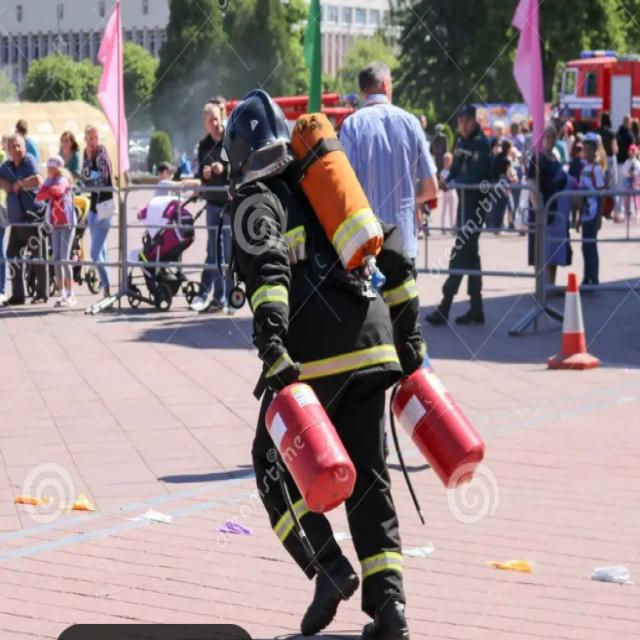fire extinguisher: (390, 358, 496, 488), (262, 381, 361, 513)
helmet: (225, 89, 293, 164)
